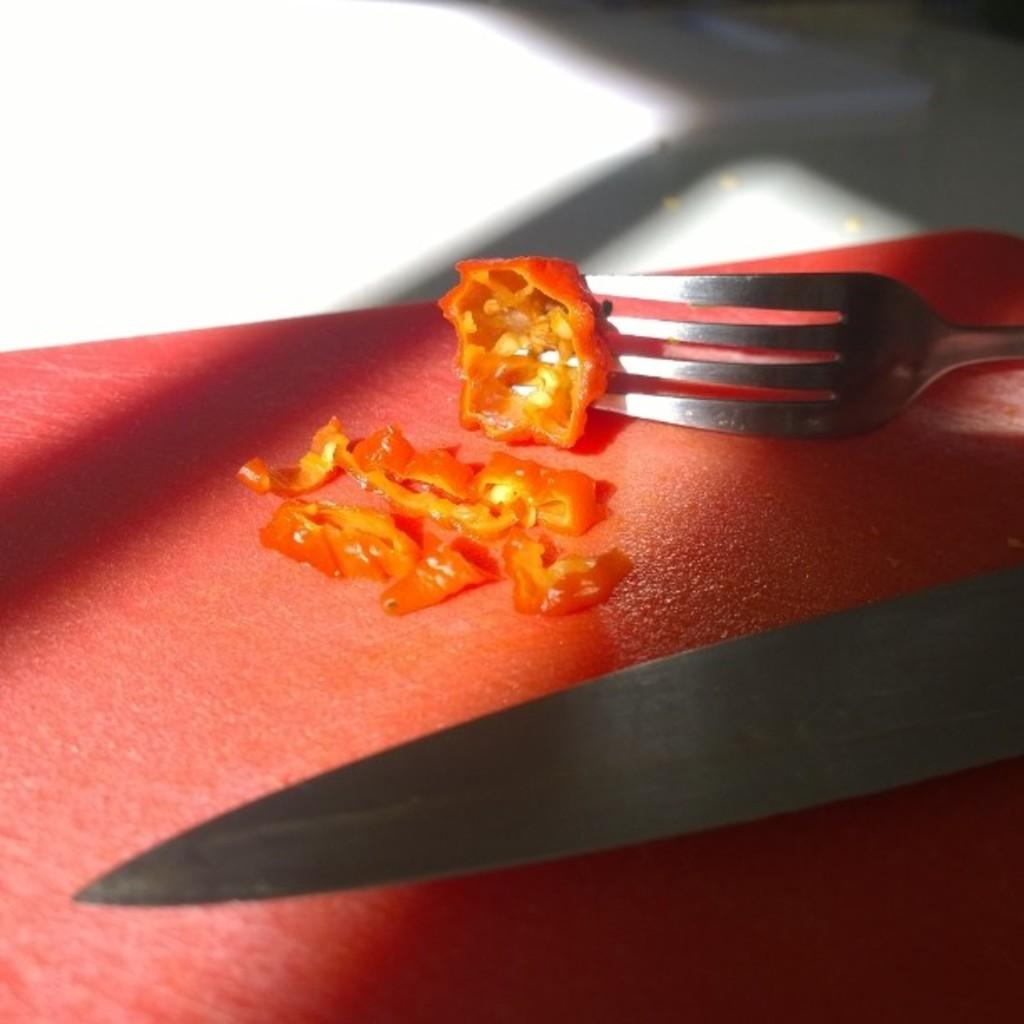Knife: (67, 562, 1022, 902)
